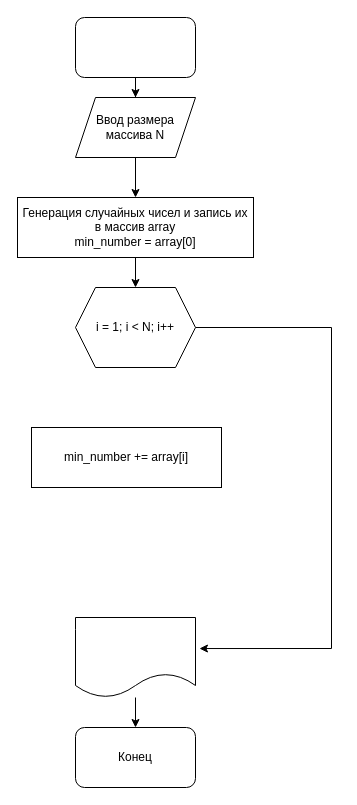
Image size: 357x805. Some labels were removed from this diagram. The centre of each missing label's shape, as x and y in pixels:
"min_number" goes at (x=135, y=657).
"Начало" goes at (x=135, y=47).
